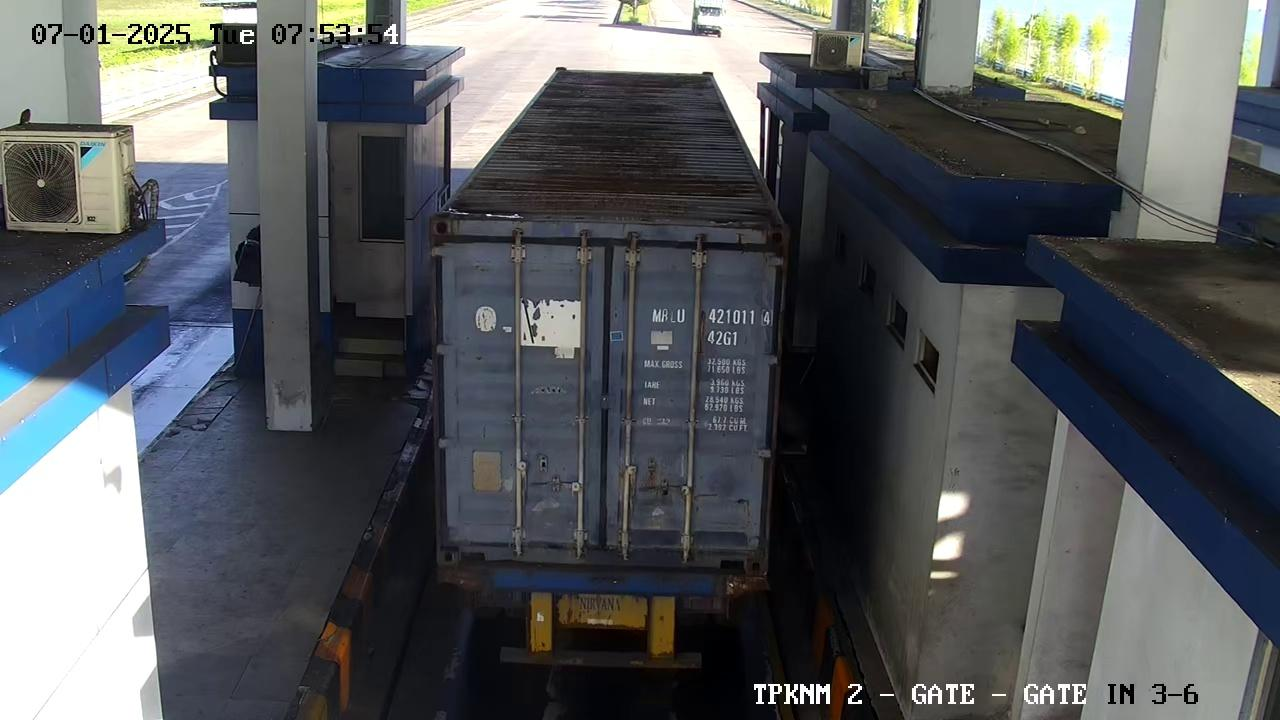Container_ID: (626, 301, 787, 332)
